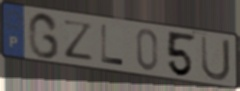0: (134, 28, 159, 73)
5: (165, 30, 198, 78)
G: (27, 11, 61, 61)
L: (99, 23, 126, 67)
U: (199, 34, 232, 83)
Z: (61, 19, 95, 63)
